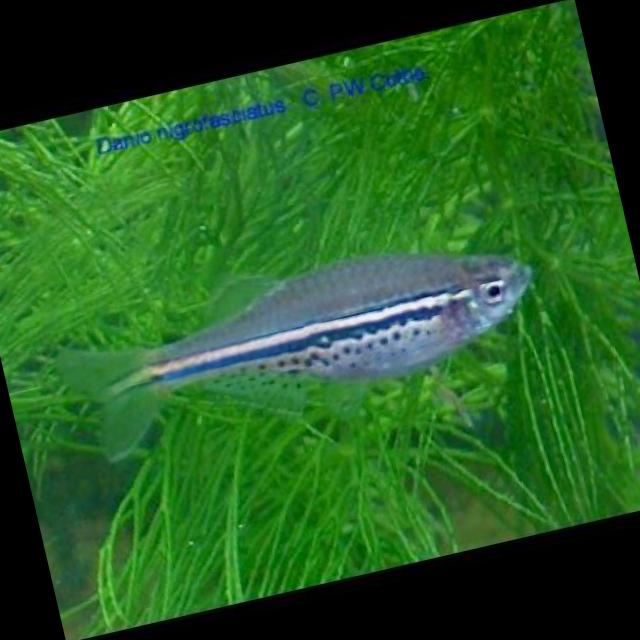ZebraFish: (49, 216, 550, 468)
